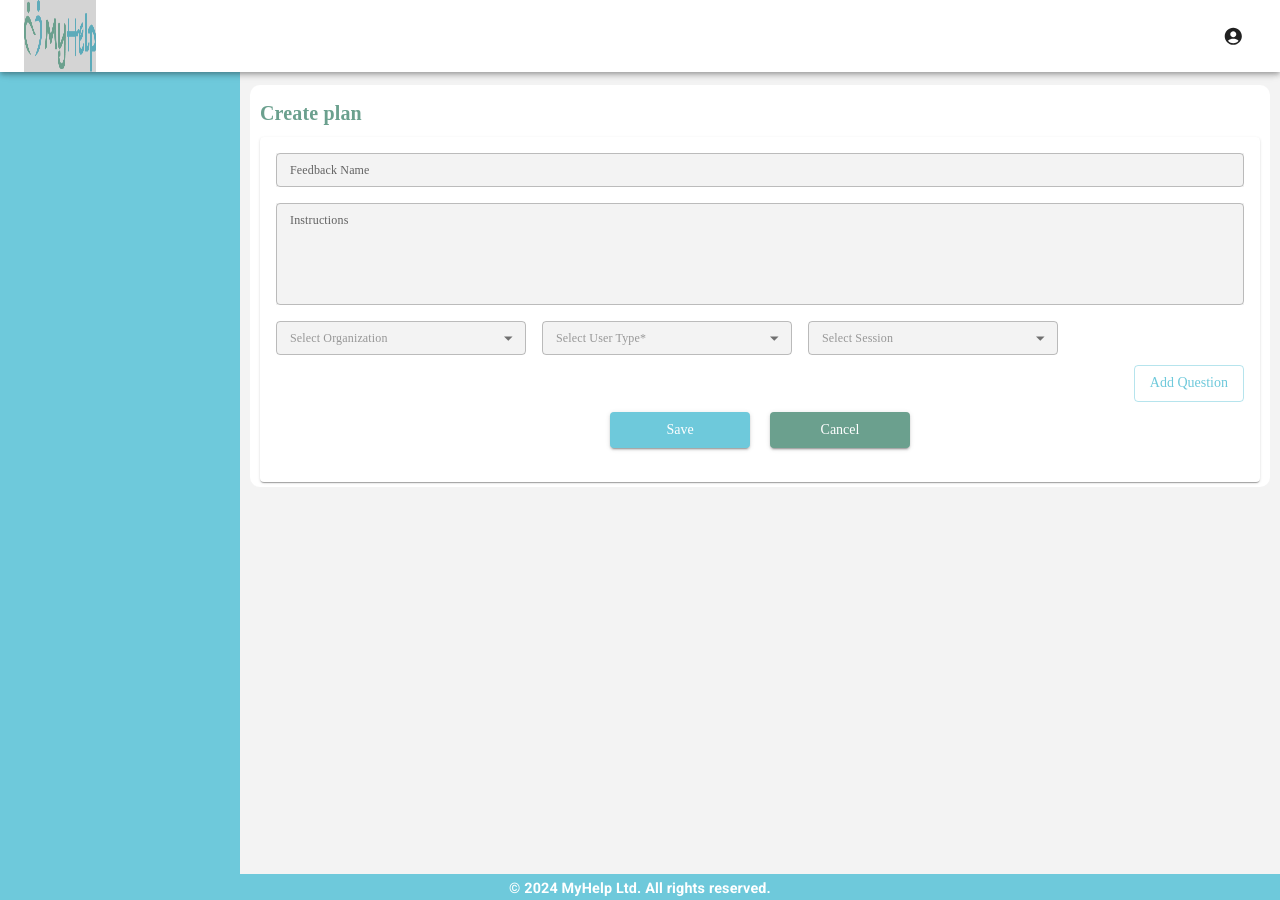
Test: Admin safety plan list › when cancel button press
Click the button with test id "cancelForm": [840, 430] box [770, 412, 910, 448]
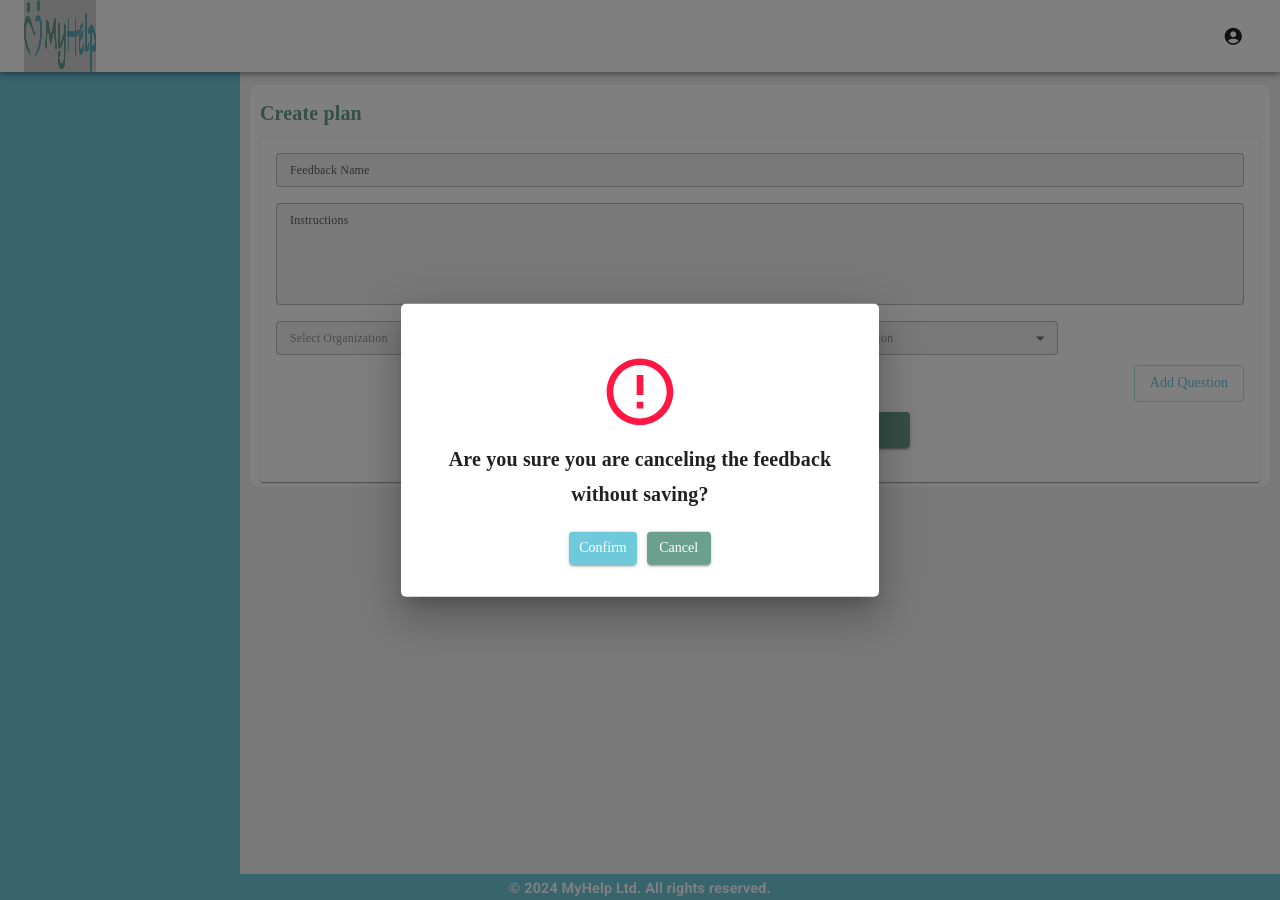
expect the button "Confirm" is shown: met, box [569, 532, 637, 564]
